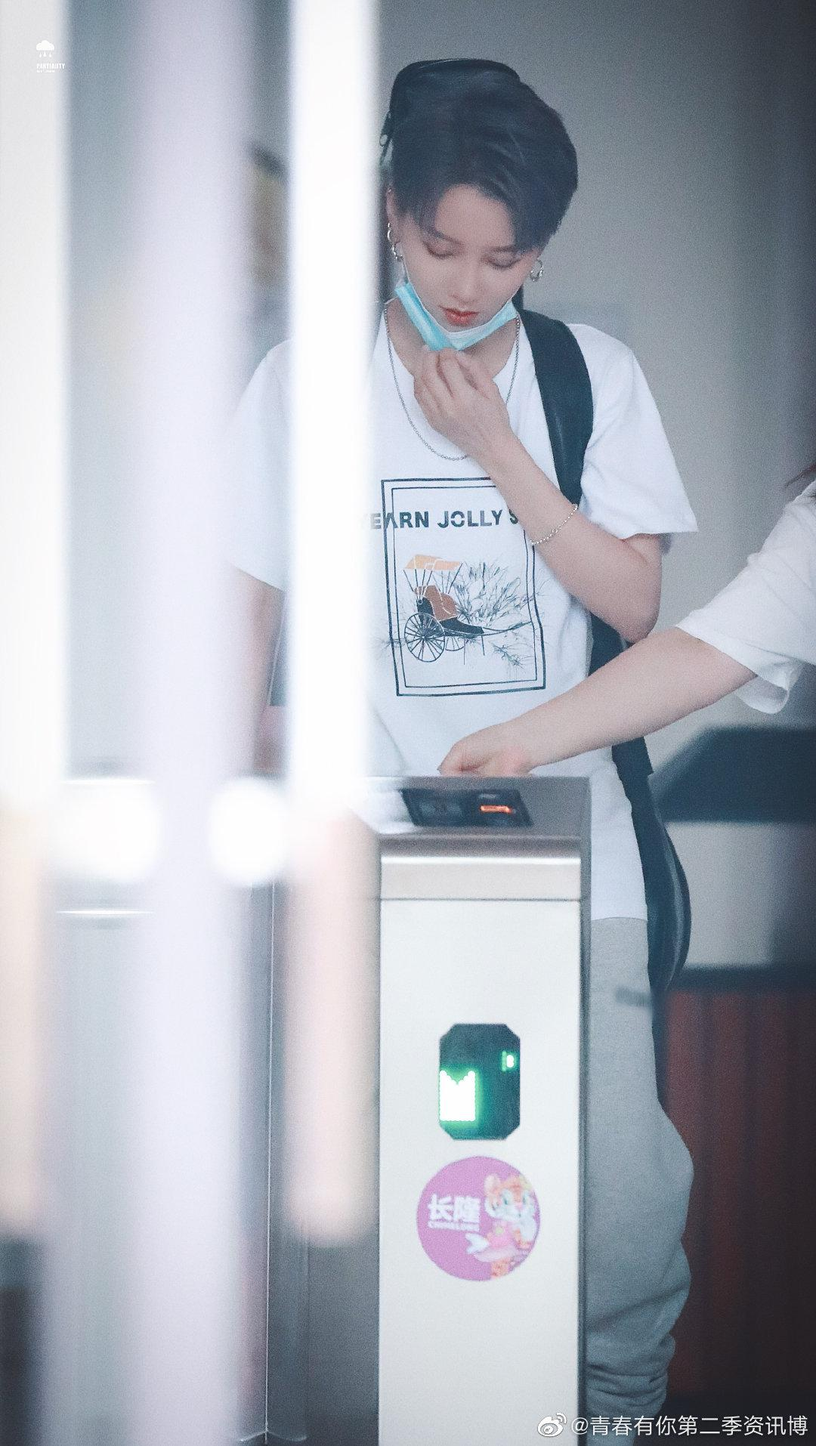WRONG: (406, 197, 534, 350)
